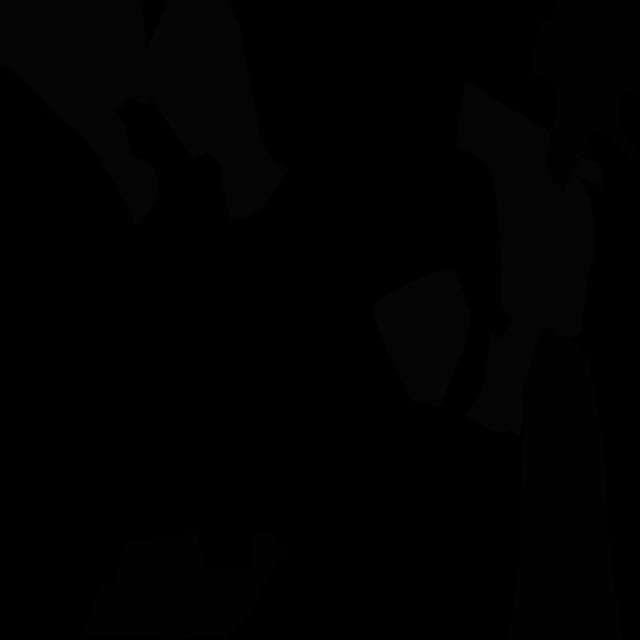cardboard: (508, 328, 622, 640), (84, 527, 284, 639), (532, 0, 640, 189)
soft_plastic: (458, 80, 603, 353), (135, 0, 289, 219), (372, 268, 472, 407), (464, 322, 533, 435)
